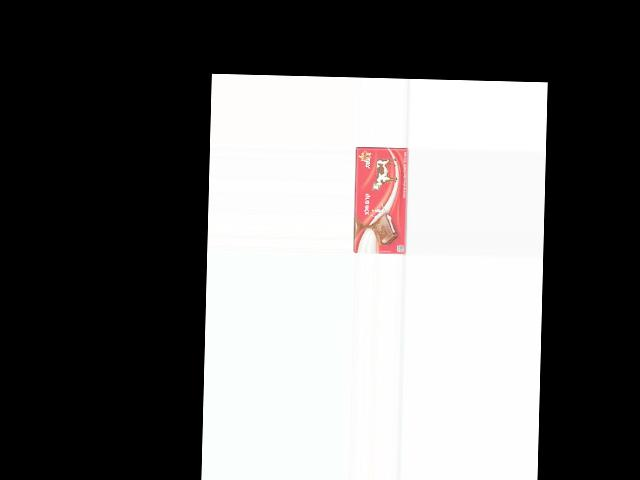chocolate: (353, 144, 409, 254)
